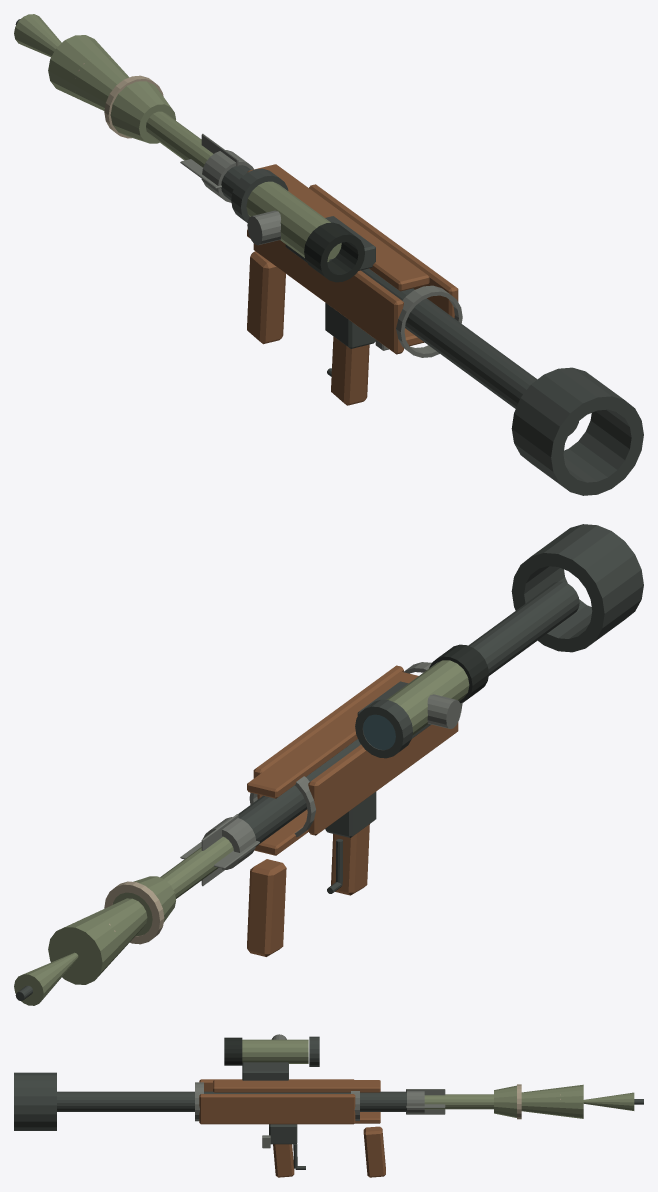
The model's file is rpg7-support.glb.
3 renders of one model, top to bottom at view 1: azimuth 30°, elevation 25°; view 2: azimuth 150°, elevation 25°; view 3: azimuth 270°, elevation 25°, orthographic. The views are drawn at different scales.
Parts seen in each view (by area): view 1: RPGTube_phosphate steel, RPGTube_oiled wood, Magazine_olive paint, RPGTube_worn edges, RPGTube_olive paint, RPGTube_black rubber; view 2: RPGTube_phosphate steel, RPGTube_oiled wood, Magazine_olive paint, RPGTube_worn edges, RPGTube_olive paint, RPGTube_black rubber, Magazine_weathered sand, Magazine_worn edges, RPGTube_glass; view 3: RPGTube_oiled wood, RPGTube_phosphate steel, Magazine_olive paint, RPGTube_olive paint, RPGTube_worn edges, RPGTube_black rubber, Magazine_worn edges.
Part boxes in pixels (x1=…): RPGTube_phosphate steel: x1=221, y1=165, x2=643, y2=495; RPGTube_oiled wood: x1=247, y1=164, x2=458, y2=405; Magazine_olive paint: x1=14, y1=14, x2=213, y2=167; RPGTube_worn edges: x1=202, y1=150, x2=462, y2=357; RPGTube_olive paint: x1=246, y1=181, x2=341, y2=261; RPGTube_black rubber: x1=304, y1=222, x2=364, y2=282; RPGTube_phosphate steel: x1=238, y1=524, x2=643, y2=893; RPGTube_oiled wood: x1=247, y1=665, x2=458, y2=956; Magazine_olive paint: x1=14, y1=836, x2=233, y2=1005; RPGTube_worn edges: x1=203, y1=662, x2=462, y2=869; RPGTube_olive paint: x1=386, y1=660, x2=469, y2=735; RPGTube_black rubber: x1=429, y1=644, x2=488, y2=703; Magazine_weathered sand: x1=104, y1=881, x2=164, y2=944; Magazine_worn edges: x1=180, y1=814, x2=259, y2=886; RPGTube_glass: x1=363, y1=714, x2=395, y2=749; RPGTube_oiled wood: x1=199, y1=1079, x2=385, y2=1177; RPGTube_phosphate steel: x1=14, y1=1036, x2=406, y2=1169; Magazine_olive paint: x1=424, y1=1084, x2=634, y2=1118; RPGTube_olive paint: x1=242, y1=1039, x2=308, y2=1063; RPGTube_worn edges: x1=195, y1=1034, x2=424, y2=1121; RPGTube_black rubber: x1=224, y1=1037, x2=242, y2=1065; Magazine_worn edges: x1=406, y1=1089, x2=445, y2=1114.
Size of the model in its own units: 0.2355 by 0.3422 by 1.61.
